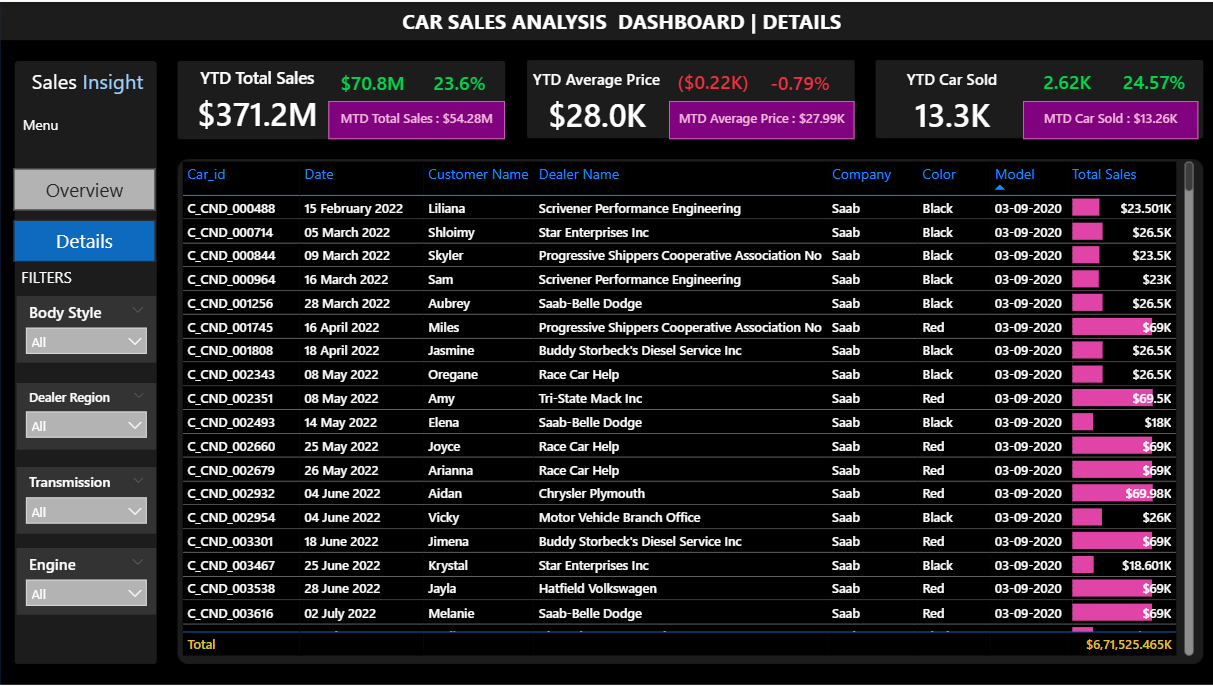

Layout of this report page (visuals, bound fields, positions):
{"tool":"powerbi","page":{"name":"Details ","canvas":[1280,720],"ordinal":1},"visuals":[{"type":"card","title":"YTD Total Sales","fields":{"Values":["car_data.YTD Total Sales"]},"box":[195.4,68.3,149.3,76.3],"z":0},{"type":"card","title":"PYTD Sales","fields":{"Values":["car_data.Sales Difference"]},"box":[344.9,67.9,91.9,36],"z":1000},{"type":"card","title":"PYTD Sales","fields":{"Values":["car_data.YOY Sales Growth"]},"box":[436.8,67.9,91.9,36],"z":2000},{"type":"card","fields":{"Values":["car_data.MTD KPI"]},"box":[344.9,103.9,185.1,40],"z":3000},{"type":"card","title":"YTD Average Price","fields":{"Values":["car_data.YTD Average price"]},"box":[551.9,69,150.3,76.1],"z":4000},{"type":"card","title":"PYTD Sales","fields":{"Values":["car_data.Average Price Difference"]},"box":[702,67.9,92,35.4],"z":5000},{"type":"card","title":"PYTD Sales","fields":{"Values":["car_data.YOY Average Price Growth"]},"box":[793.7,67.9,91.9,36],"z":6000},{"type":"card","fields":{"Values":["car_data.MTD Average Price KPI"]},"box":[701.8,103.9,194.4,40],"z":7000},{"type":"card","title":"YTD Car Sold","fields":{"Values":["car_data.YTD Car Sold"]},"box":[924.3,69.4,150,76.4],"z":8000},{"type":"card","title":"PYTD Sales","fields":{"Values":["car_data.Car Sold Difference"]},"box":[1074.3,67.9,92,35.4],"z":9000},{"type":"card","title":"PYTD Sales","fields":{"Values":["car_data.YOY Car Sold Growth"]},"box":[1166.3,67.9,92,35.4],"z":10000},{"type":"card","fields":{"Values":["car_data.MTD Car Sold KPI"]},"box":[1074.7,103.9,183.8,40],"z":11000},{"type":"textbox","box":[418.2,0,518,38.6],"z":12000},{"type":"slicer","fields":{"Values":["car_data.Body Style"]},"box":[17.3,309,146.5,70],"z":13000},{"type":"slicer","fields":{"Values":["car_data.Dealer_Region"]},"box":[17.3,399.5,146.5,70],"z":14000},{"type":"slicer","fields":{"Values":["car_data.Transmission"]},"box":[17.3,488.7,146.5,70],"z":15000},{"type":"slicer","fields":{"Values":["car_data.Engine"]},"box":[17.3,574,146.5,70],"z":16000},{"type":"textbox","box":[17.3,273,73.2,36],"z":17000},{"type":"tableEx","fields":{"Values":["car_data.Car_id","car_data.Date","car_data.Customer Name","car_data.Dealer_Name","car_data.Company","car_data.Color","car_data.Model","car_data.Price ($)"]},"box":[186.4,162.5,1072,528.7],"z":18000},{"type":"pageNavigator","box":[14.6,174.5,149.2,98.5],"z":18001},{"type":"textbox","box":[17.3,62.6,149.2,41.3],"z":18002},{"type":"textbox","box":[18.6,113.2,73.2,32],"z":18003}]}

Visuals, with their boxes in screenshot pixels (x1, y1, x2, y2), scaled from the page's 1280x720 canvas onto the 1213x686 screenshot:
"YTD Total Sales" card: {"x1": 185, "y1": 65, "x2": 327, "y2": 138}
"PYTD Sales" card: {"x1": 327, "y1": 65, "x2": 414, "y2": 99}
"PYTD Sales" card: {"x1": 414, "y1": 65, "x2": 501, "y2": 99}
card - car_data.MTD KPI: {"x1": 327, "y1": 99, "x2": 502, "y2": 137}
"YTD Average Price" card: {"x1": 523, "y1": 66, "x2": 665, "y2": 138}
"PYTD Sales" card: {"x1": 665, "y1": 65, "x2": 752, "y2": 98}
"PYTD Sales" card: {"x1": 752, "y1": 65, "x2": 839, "y2": 99}
card - car_data.MTD Average Price KPI: {"x1": 665, "y1": 99, "x2": 849, "y2": 137}
"YTD Car Sold" card: {"x1": 876, "y1": 66, "x2": 1018, "y2": 139}
"PYTD Sales" card: {"x1": 1018, "y1": 65, "x2": 1105, "y2": 98}
"PYTD Sales" card: {"x1": 1105, "y1": 65, "x2": 1192, "y2": 98}
card - car_data.MTD Car Sold KPI: {"x1": 1018, "y1": 99, "x2": 1193, "y2": 137}
textbox: {"x1": 396, "y1": 0, "x2": 887, "y2": 37}
slicer - car_data.Body Style: {"x1": 16, "y1": 294, "x2": 155, "y2": 361}
slicer - car_data.Dealer_Region: {"x1": 16, "y1": 381, "x2": 155, "y2": 447}
slicer - car_data.Transmission: {"x1": 16, "y1": 466, "x2": 155, "y2": 532}
slicer - car_data.Engine: {"x1": 16, "y1": 547, "x2": 155, "y2": 614}
textbox: {"x1": 16, "y1": 260, "x2": 86, "y2": 294}
tableEx - car_data.Car_id x car_data.Date: {"x1": 177, "y1": 155, "x2": 1193, "y2": 659}
pageNavigator: {"x1": 14, "y1": 166, "x2": 155, "y2": 260}
textbox: {"x1": 16, "y1": 60, "x2": 158, "y2": 99}
textbox: {"x1": 18, "y1": 108, "x2": 87, "y2": 138}
